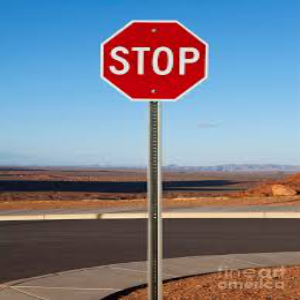STOP_SIGN: (99, 19, 209, 102)
